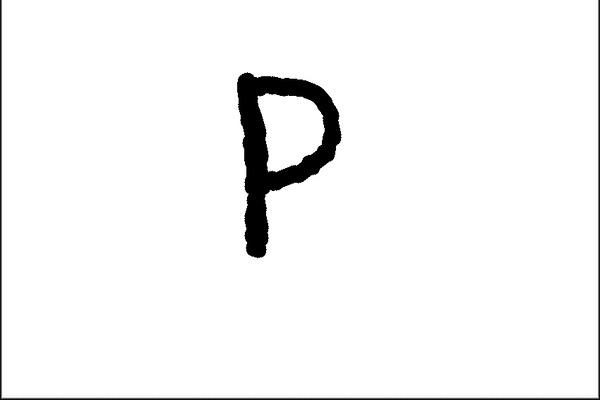P: (206, 58, 362, 263)
